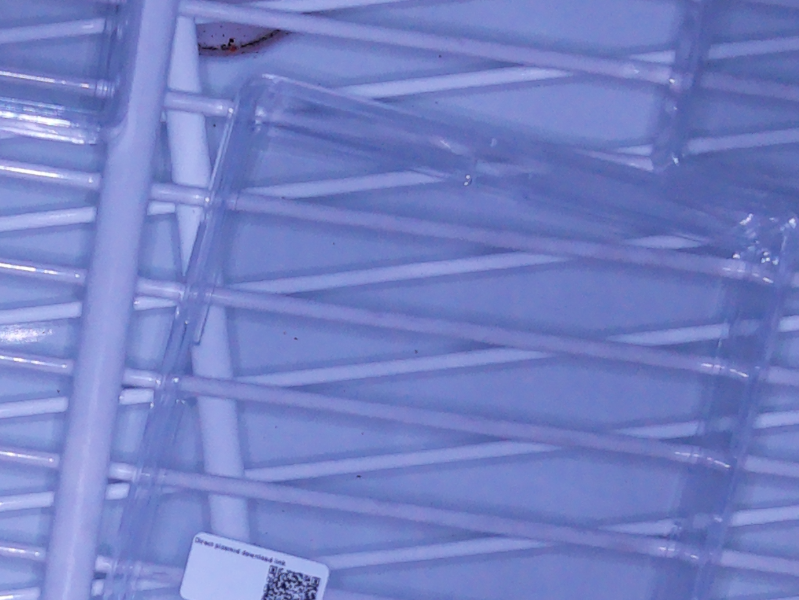plate: (100, 71, 799, 600), (649, 1, 799, 202), (1, 1, 140, 145)
